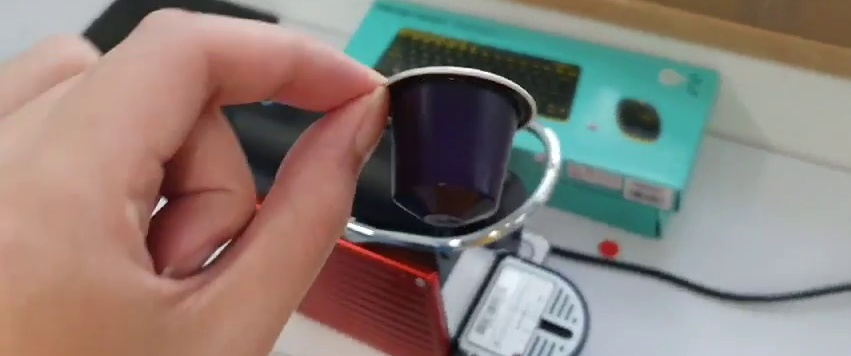capsule_2: (374, 63, 538, 230)
